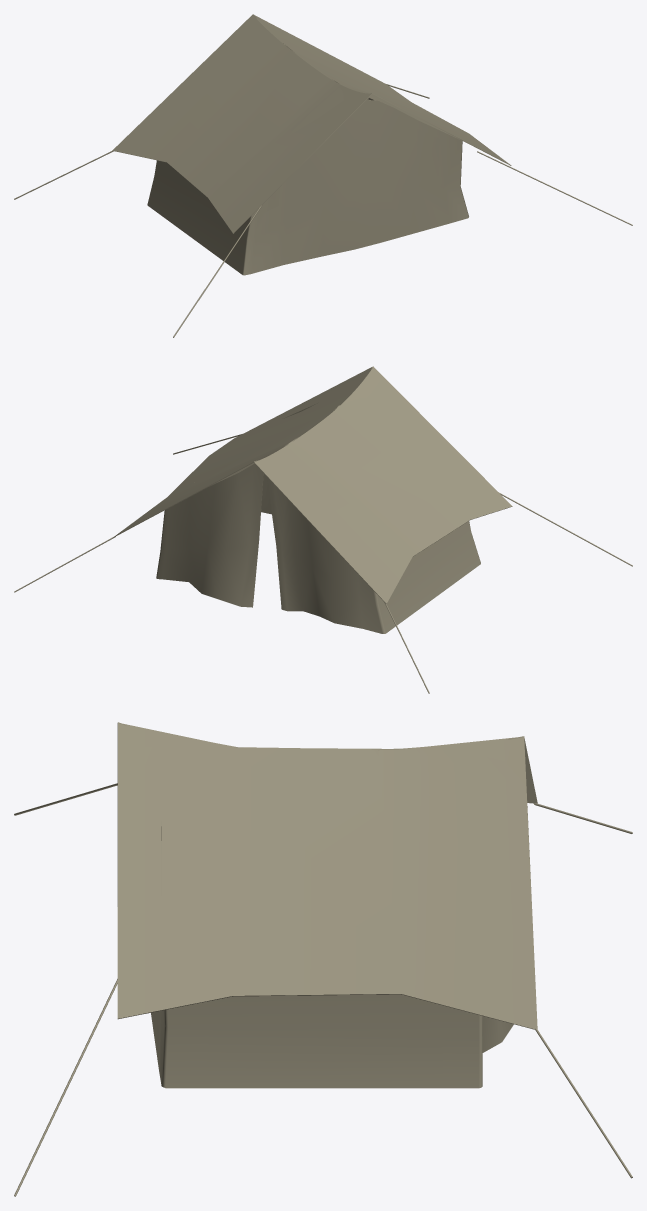
File: Tent.fbx
3 views of the same model, one above another, from view 1: azimuth 30°, elevation 25°; view 2: azimuth 150°, elevation 25°; view 3: azimuth 270°, elevation 25° (orthographic). The views are drawn at different scales.
Visible parts, largest first — view 1: Tent; view 2: Tent; view 3: Tent.
Part boxes in pixels (<box>): Tent: <box>14,14,632,337</box>; Tent: <box>14,366,632,693</box>; Tent: <box>14,722,632,1196</box>.
Size of the model in its own units: 1110 by 384 by 760.
